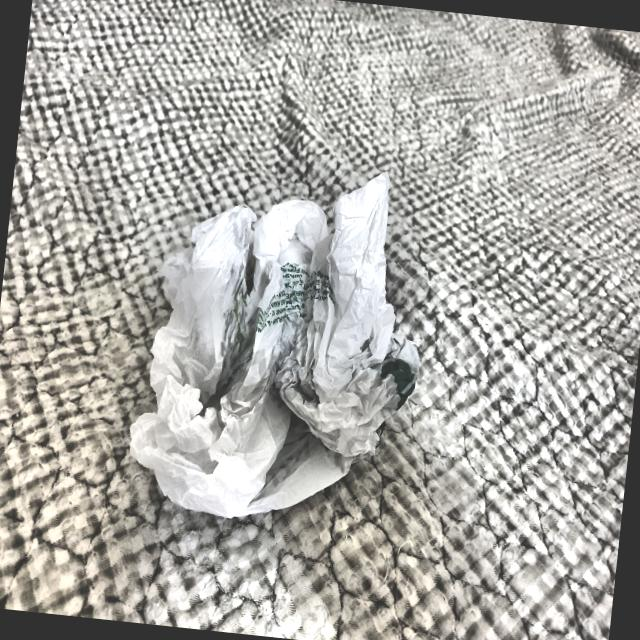plastic bag: (108, 133, 450, 552)
